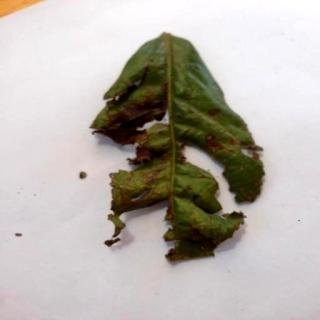Algal Leaf: (96, 34, 266, 266)
